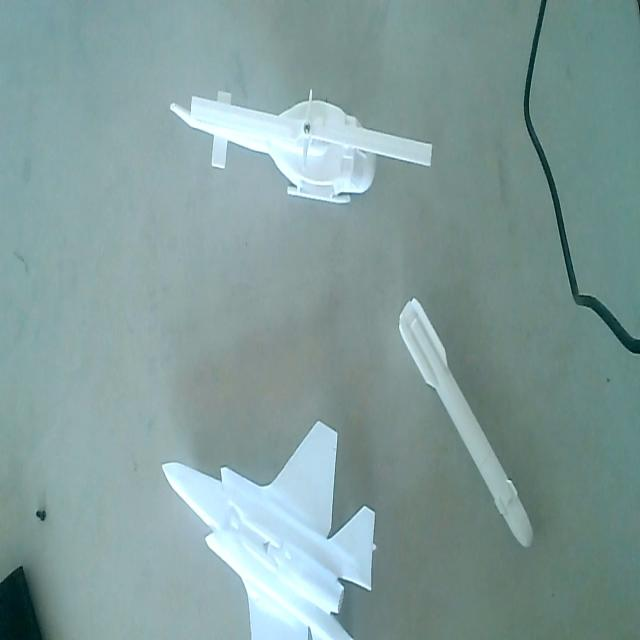Helicopter: (165, 71, 435, 218)
Jet: (156, 409, 382, 640)
Rocket: (398, 291, 536, 554)
